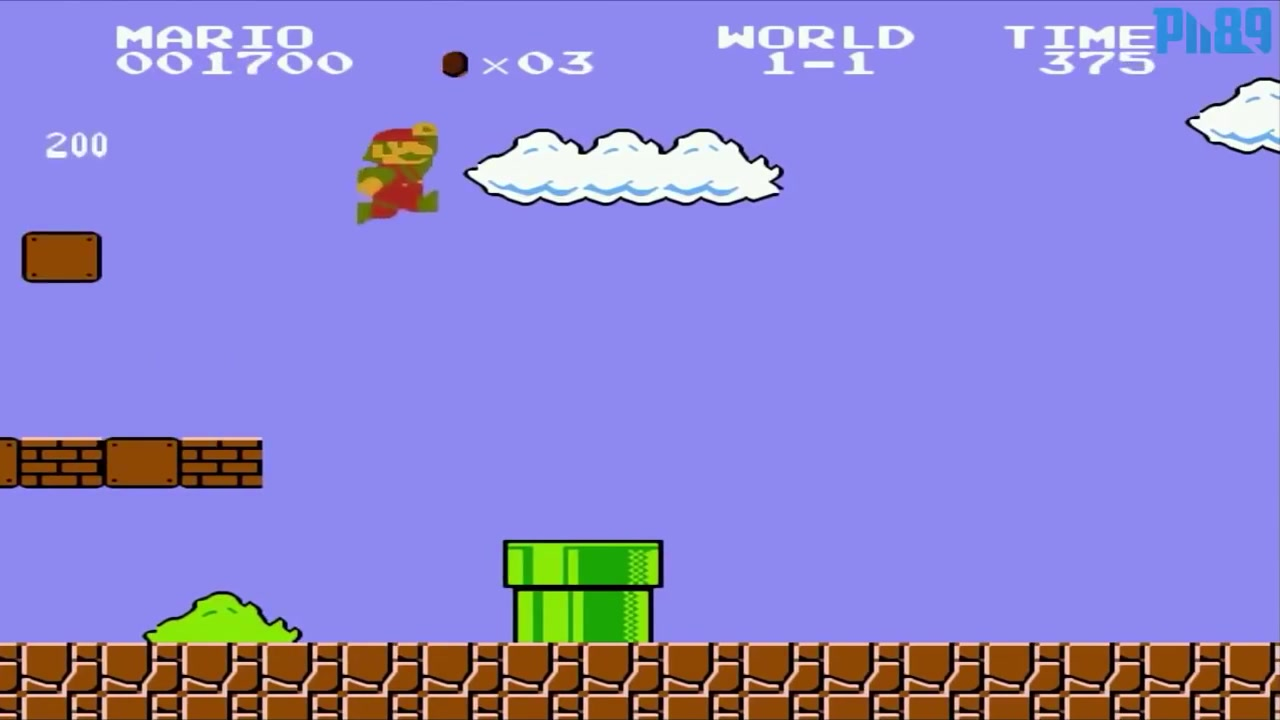mario: (347, 118, 443, 232)
